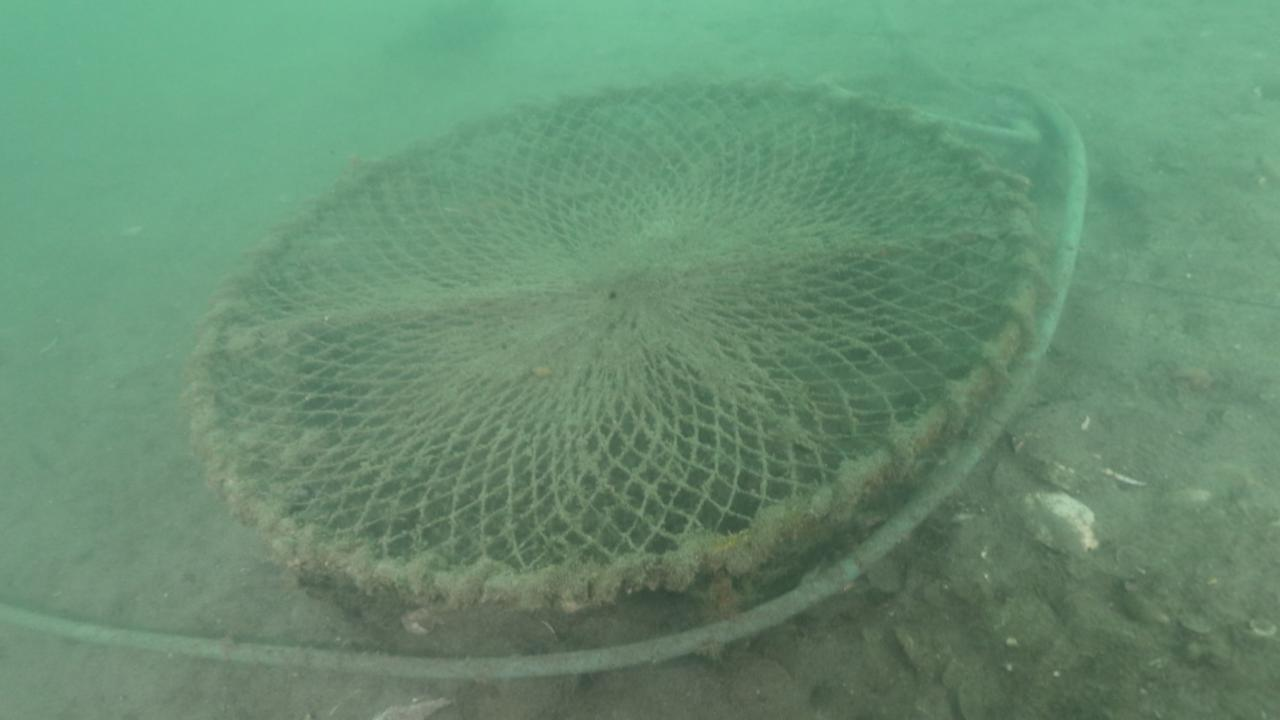circular fish trap: (186, 73, 1044, 680)
